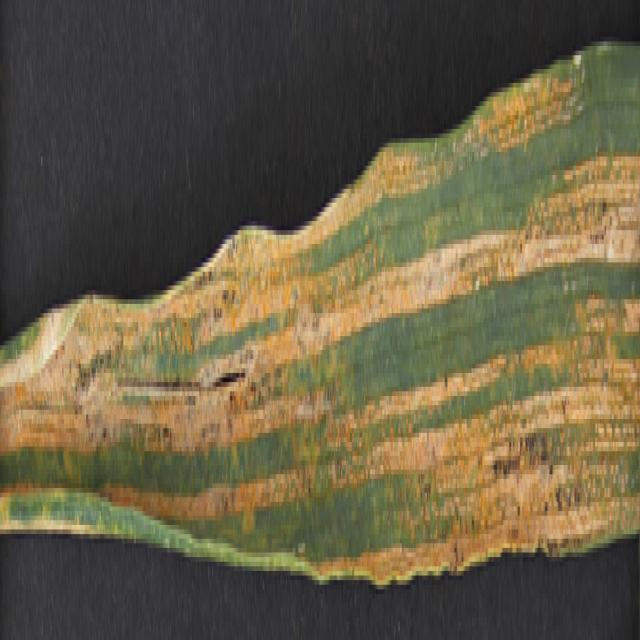leaf rust: (0, 96, 640, 584)
